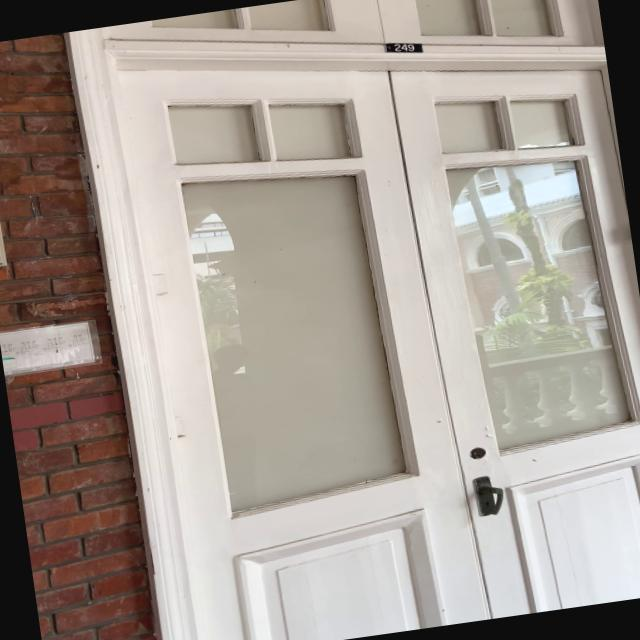room249: (380, 37, 424, 59)
